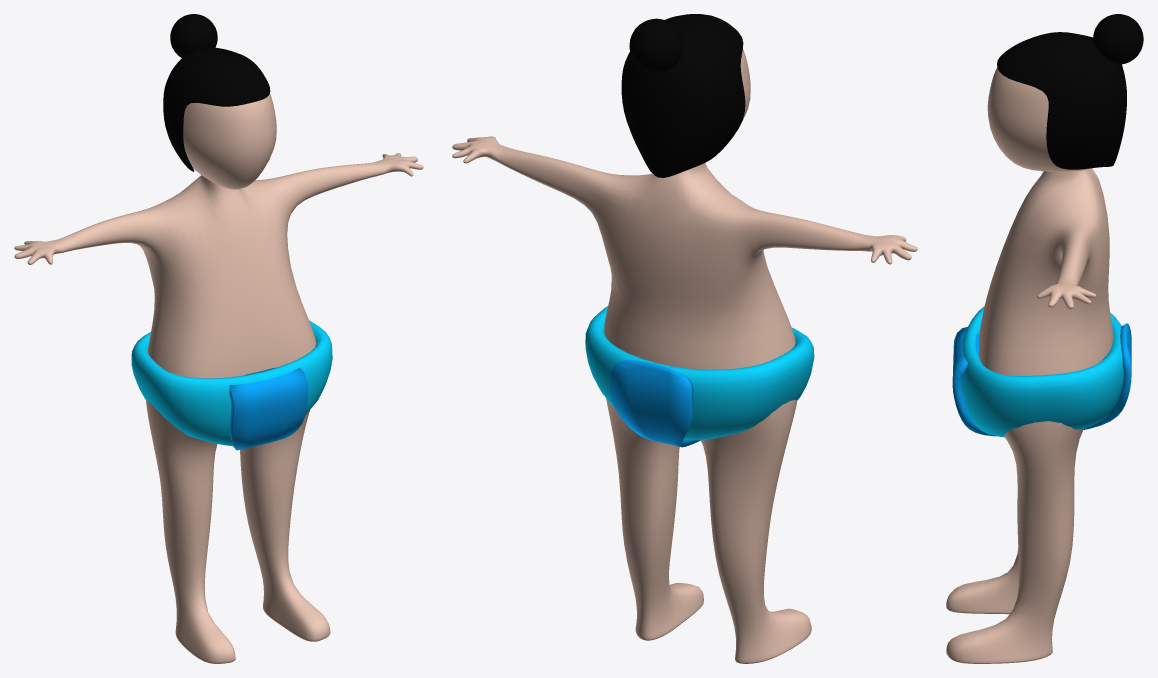
The model's file is semi sumo 2.fbx.
The picture shows the model from 3 angles, left to right: view 1: azimuth 30°, elevation 25°; view 2: azimuth 150°, elevation 25°; view 3: azimuth 270°, elevation 25°; orthographic projection. The views are drawn at different scales.
Parts seen in each view (by area): view 1: Cube.014, Cube.013, Cube.015, Cube.011, Cube.012, Sphere.002; view 2: Cube.014, Cube.011, Cube.013, Cube.012, Sphere.002; view 3: Cube.014, Cube.011, Cube.013, Cube.015, Cube.012, Sphere.002.
Part boxes in pixels (left/top/right/bottom): Cube.014: left=14, top=153, right=423, bottom=663; Cube.013: left=131, top=320, right=332, bottom=445; Cube.015: left=183, top=93, right=276, bottom=189; Cube.011: left=163, top=47, right=270, bottom=171; Cube.012: left=229, top=367, right=308, bottom=450; Sphere.002: left=170, top=14, right=217, bottom=57; Cube.014: left=452, top=136, right=917, bottom=663; Cube.011: left=621, top=14, right=745, bottom=177; Cube.013: left=585, top=306, right=814, bottom=440; Cube.012: left=610, top=360, right=700, bottom=447; Sphere.002: left=629, top=18, right=683, bottom=72; Cube.014: left=946, top=168, right=1113, bottom=663; Cube.011: left=997, top=32, right=1126, bottom=169; Cube.013: left=960, top=306, right=1123, bottom=437; Cube.015: left=987, top=68, right=1091, bottom=171; Cube.012: left=952, top=323, right=1131, bottom=436; Sphere.002: left=1093, top=14, right=1143, bottom=64.
Size of the model in its own units: 178 by 244 by 71.13.
